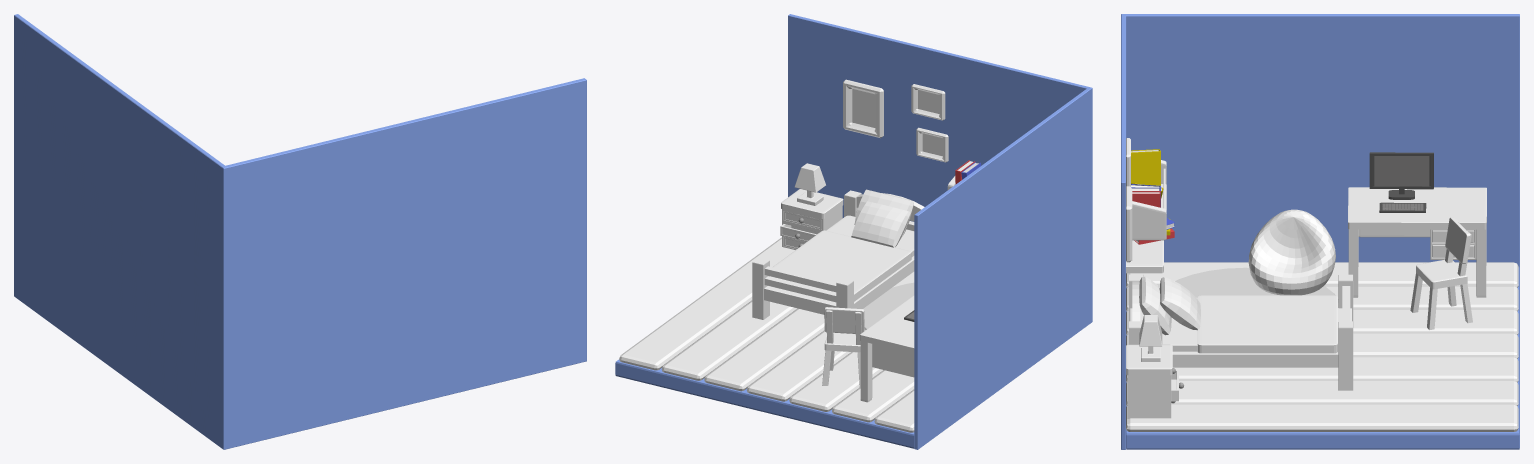
The picture shows the model from 3 angles, left to right: view 1: azimuth 30°, elevation 25°; view 2: azimuth 150°, elevation 25°; view 3: azimuth 270°, elevation 25°; orthographic projection. The views are drawn at different scales.
Parts seen in each view (by area): view 1: Wall; view 2: Wall, Wood floor 1, Bed 1, Floor, Table 1, Bedside table 1, Chair 1, Picture 1.001, Carpet 1, Picture 2.001, Picture 3.001, Lamp 1; view 3: Wall, Wood floor 1, Bed 1, Table 1, Floor, Seat 1, Bedside table 1, Chair 1, PC 1, Carpet 1, Wall bookshelf.001, Wall shelf.001 (+5 smaller).
Part boxes in pixels (left/top/right/bottom): Wall: left=14, top=14, right=586, bottom=449; Wall: left=788, top=14, right=1092, bottom=449; Wood floor 1: left=619, top=237, right=914, bottom=432; Bed 1: left=752, top=189, right=924, bottom=319; Floor: left=615, top=359, right=914, bottom=448; Table 1: left=860, top=295, right=914, bottom=402; Bedside table 1: left=780, top=189, right=843, bottom=249; Chair 1: left=822, top=307, right=864, bottom=388; Picture 1.001: left=843, top=79, right=883, bottom=138; Carpet 1: left=863, top=282, right=914, bottom=330; Picture 2.001: left=911, top=84, right=945, bottom=120; Picture 3.001: left=916, top=127, right=948, bottom=162; Lamp 1: left=794, top=163, right=825, bottom=205; Wall: left=1121, top=14, right=1519, bottom=449; Wood floor 1: left=1126, top=262, right=1518, bottom=431; Bed 1: left=1129, top=274, right=1353, bottom=390; Table 1: left=1348, top=187, right=1486, bottom=297; Floor: left=1126, top=267, right=1519, bottom=449; Seat 1: left=1248, top=209, right=1335, bottom=295; Bedside table 1: left=1126, top=344, right=1183, bottom=418; Chair 1: left=1410, top=217, right=1472, bottom=330; PC 1: left=1369, top=152, right=1433, bottom=199; Carpet 1: left=1175, top=267, right=1338, bottom=302; Wall bookshelf.001: left=1132, top=160, right=1166, bottom=240; Wall shelf.001: left=1126, top=240, right=1163, bottom=273.
Size of the model in its own units: 8.1 by 6 by 8.1.
